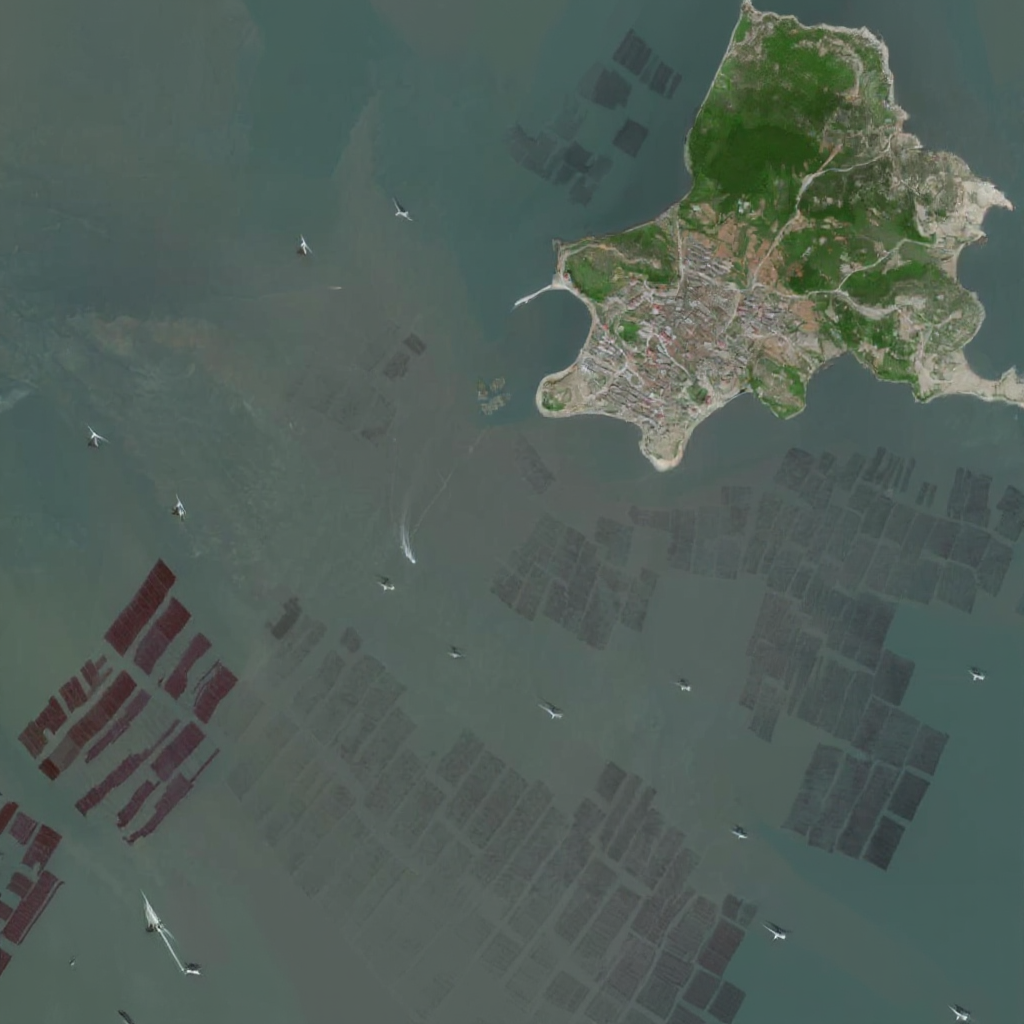Marine_Obstacles: (366, 857, 694, 1022), (640, 498, 1024, 613), (18, 657, 222, 853), (779, 695, 949, 873), (741, 591, 918, 740), (495, 506, 657, 654), (104, 554, 240, 723), (229, 689, 358, 840), (726, 442, 996, 514), (308, 627, 405, 780), (438, 729, 552, 857), (325, 844, 438, 950), (1, 786, 61, 982), (361, 708, 444, 840), (509, 114, 614, 209), (273, 802, 390, 887), (687, 894, 758, 1024), (293, 358, 399, 445), (266, 588, 326, 686), (614, 27, 683, 106), (571, 797, 659, 856), (363, 314, 427, 384), (578, 63, 636, 116), (508, 430, 554, 492), (597, 764, 658, 807), (657, 808, 696, 856), (613, 117, 651, 163), (552, 798, 574, 856)
bybrid: (85, 420, 110, 448), (389, 197, 415, 222), (945, 1001, 973, 1024), (537, 700, 563, 720), (297, 231, 314, 261), (762, 922, 790, 940), (170, 492, 186, 523), (372, 573, 398, 592), (443, 643, 465, 663), (672, 678, 693, 695), (730, 824, 750, 841), (968, 665, 985, 682)
